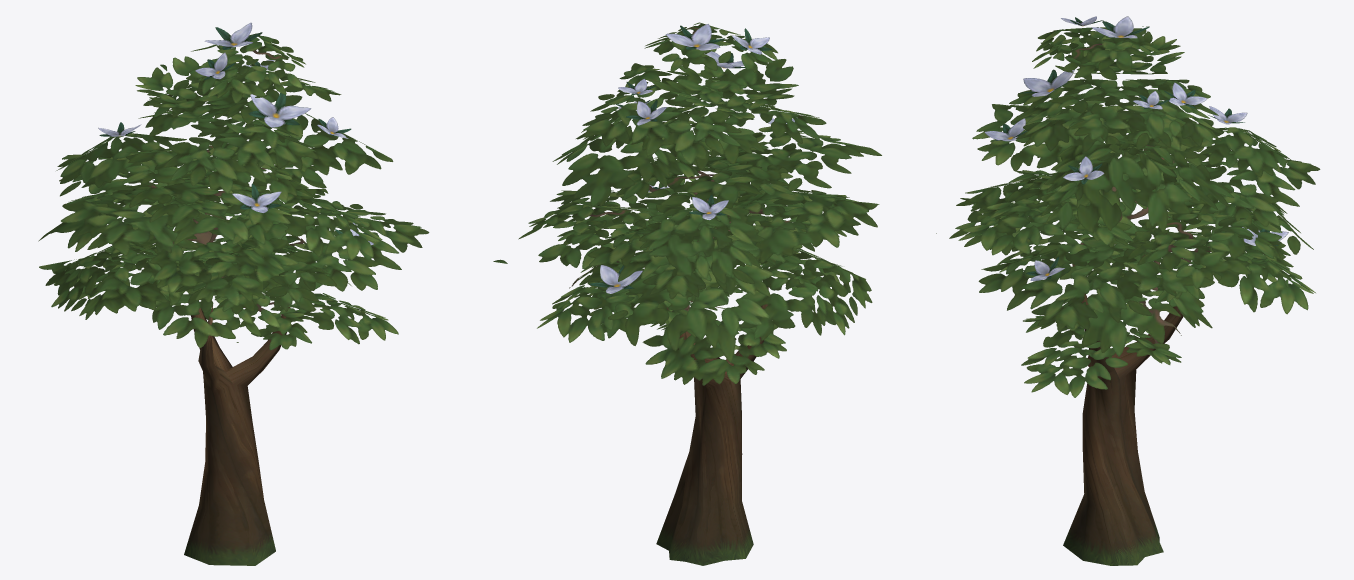
The model's file is Lty_shu_02.FBX.
3 renders of one model, left to right at view 1: azimuth 30°, elevation 25°; view 2: azimuth 150°, elevation 25°; view 3: azimuth 270°, elevation 25°, orthographic. The views are drawn at different scales.
Visible parts, largest first — view 1: Object003; view 2: Object003; view 3: Object003.
Part boxes in pixels (<box>): Object003: <box>38,22,429,565</box>; Object003: <box>493,22,881,565</box>; Object003: <box>936,16,1320,565</box>.
Size of the model in its own units: 420 by 569 by 396.
